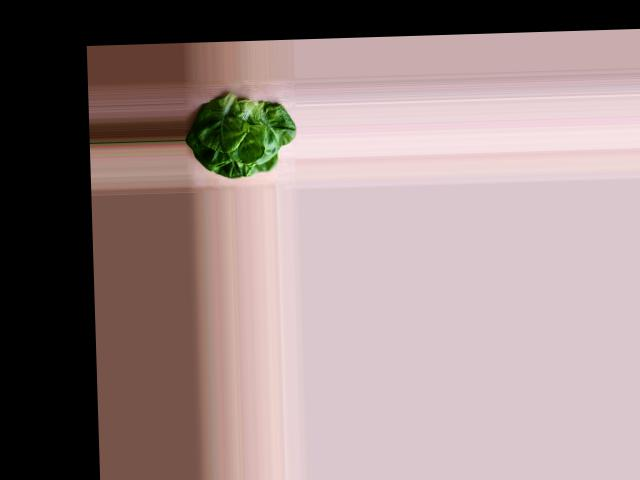lettuce: (186, 94, 294, 179)
